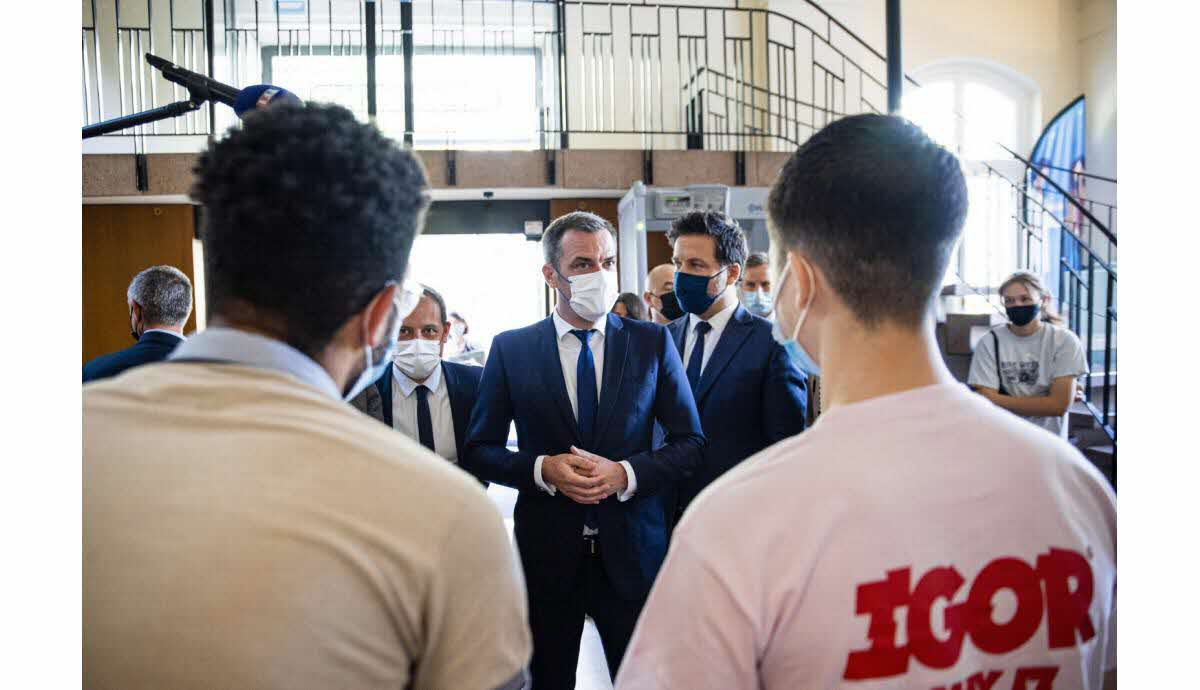with_mask: (554, 236, 622, 322), (390, 306, 450, 389), (669, 243, 730, 322), (1004, 285, 1044, 333)
